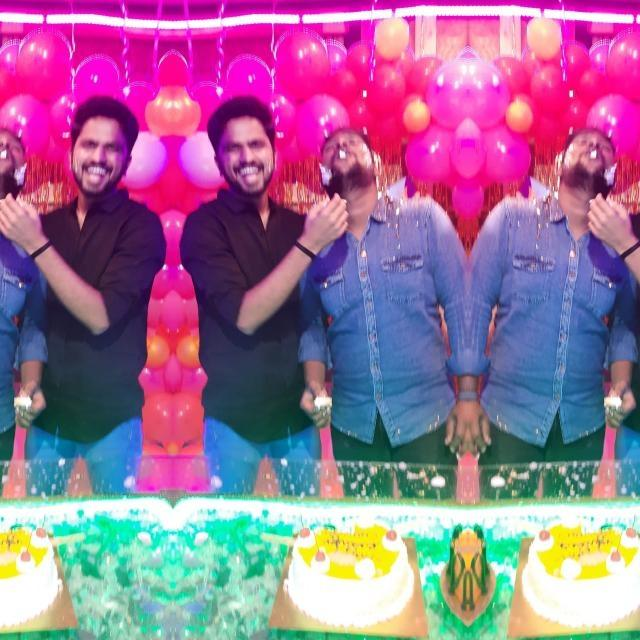person: (312, 125, 453, 452), (481, 125, 622, 452), (192, 89, 310, 423), (34, 89, 152, 423), (0, 125, 31, 452), (624, 89, 640, 423)
